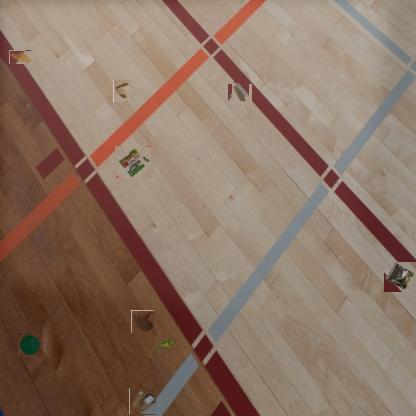dirty: (115, 146, 151, 178), (384, 262, 416, 292), (130, 388, 156, 415), (18, 332, 42, 356), (230, 83, 250, 103), (112, 82, 132, 101), (155, 334, 175, 352)
liquid: (131, 310, 154, 333), (9, 50, 31, 64)
